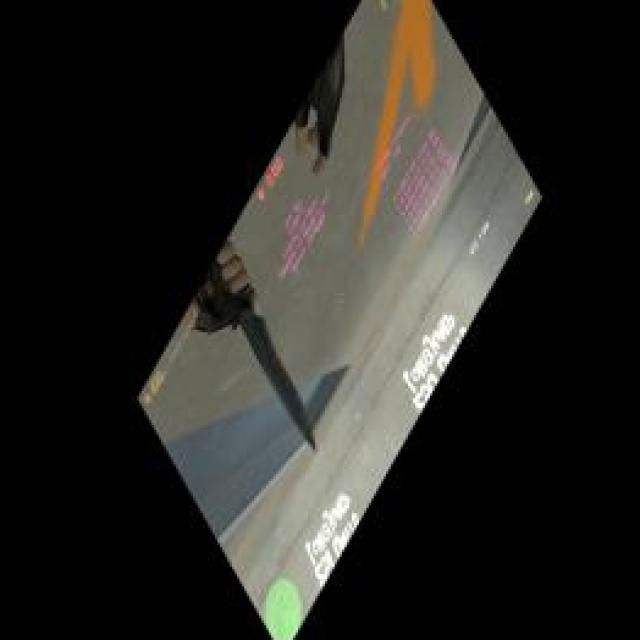knife: (232, 296, 321, 457)
